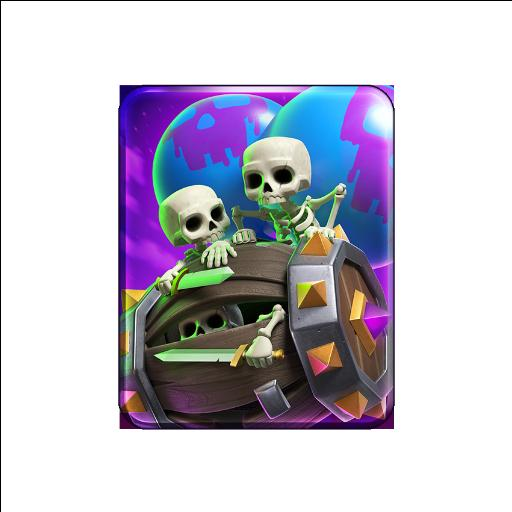skeleton-barrel-evo: (126, 90, 388, 420)
